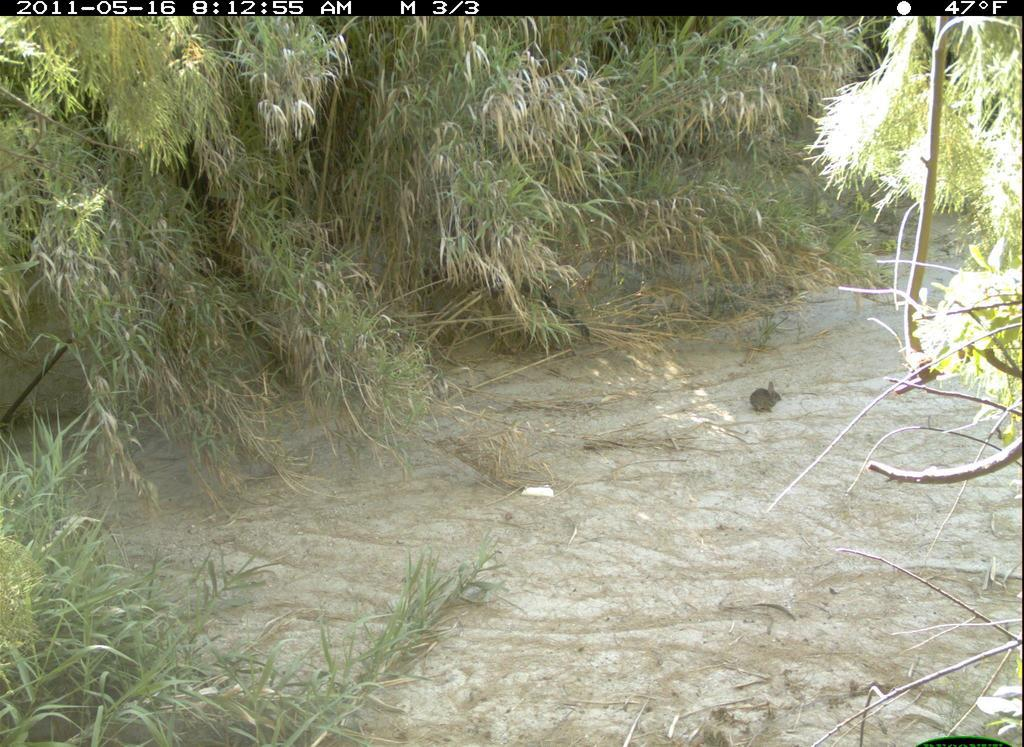rabbit: (743, 376, 790, 423)
